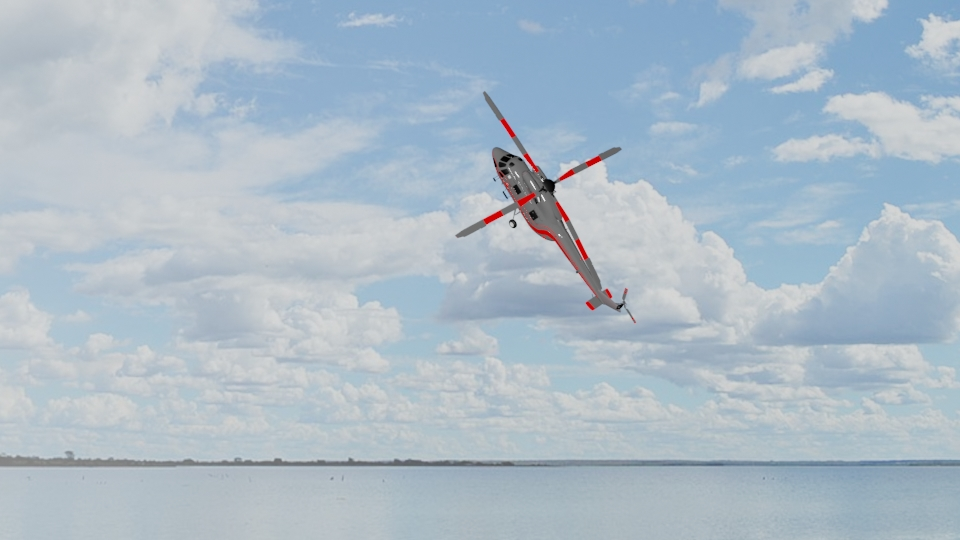heli: (453, 89, 634, 321)
